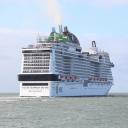cruises: (18, 22, 117, 101)
